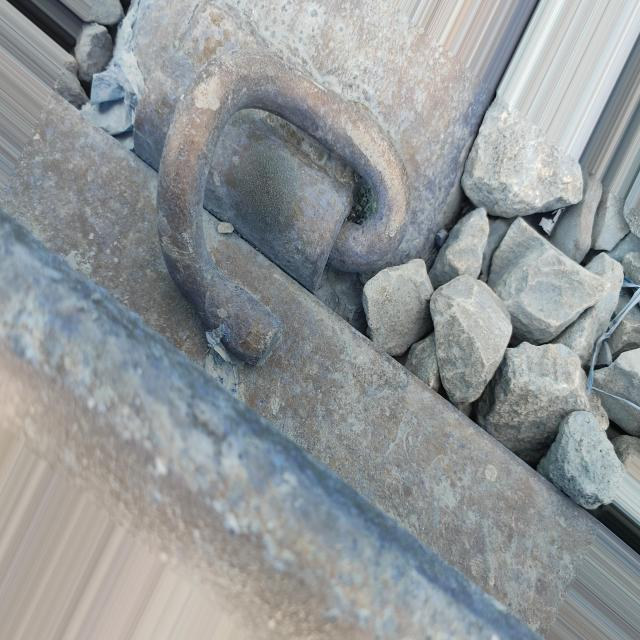Good Fasteners: (130, 0, 434, 390)
